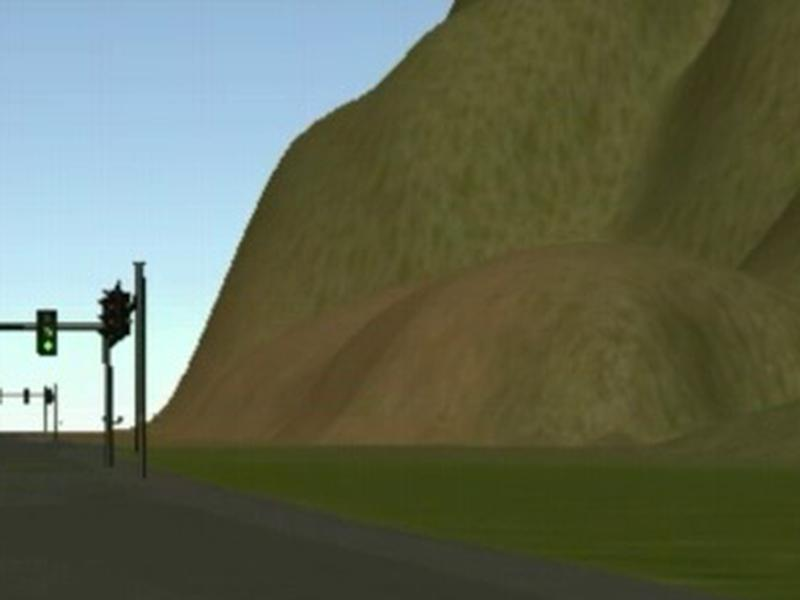Green: (36, 309, 56, 354)
